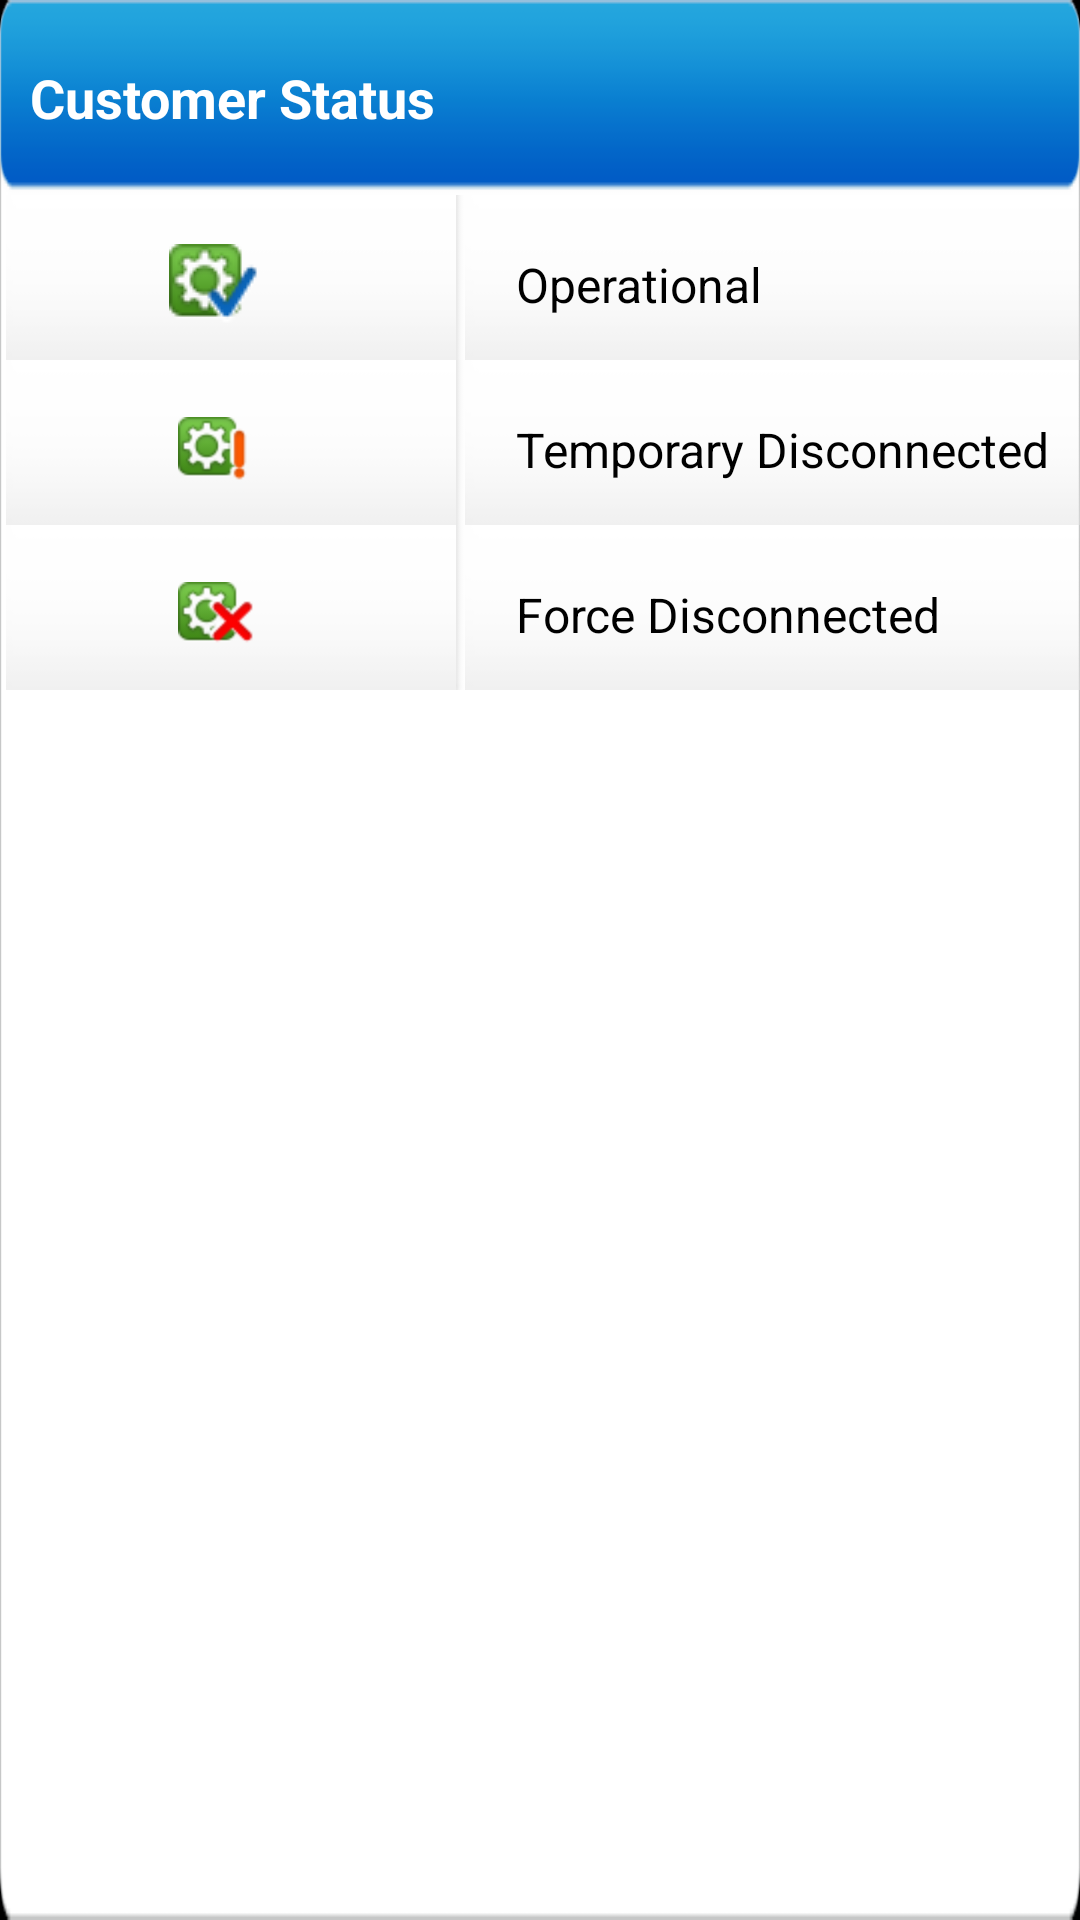

Point at icon controls on the screen. Image size 1080px×1920px, points as (x,y).
operational: (213,280)
